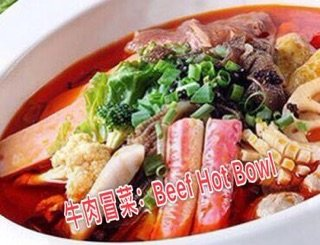sandwich: (5, 9, 318, 240)
